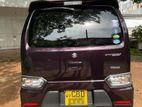car: (19, 0, 134, 107)
